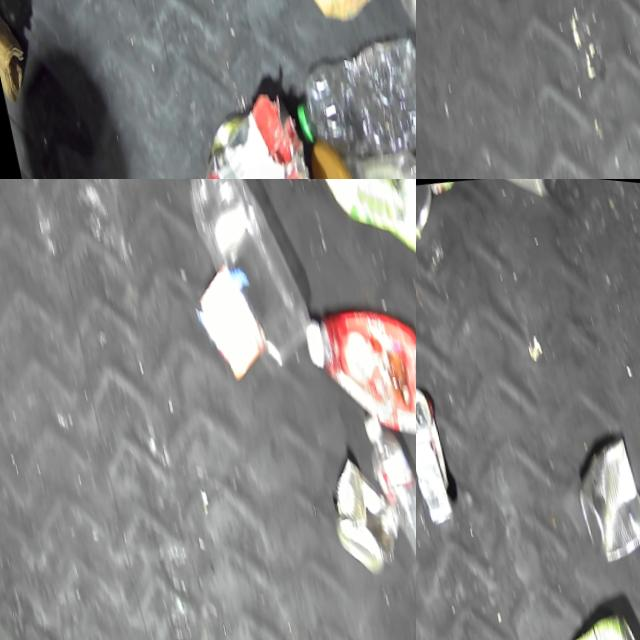can: (318, 438, 407, 575), (561, 416, 640, 567), (416, 379, 459, 528), (553, 592, 640, 640), (416, 179, 443, 257), (495, 179, 567, 203), (416, 179, 474, 200)
non_white_jug: (296, 179, 416, 261)
plastic_bottle: (171, 179, 321, 381), (276, 10, 416, 171), (357, 393, 416, 593)
